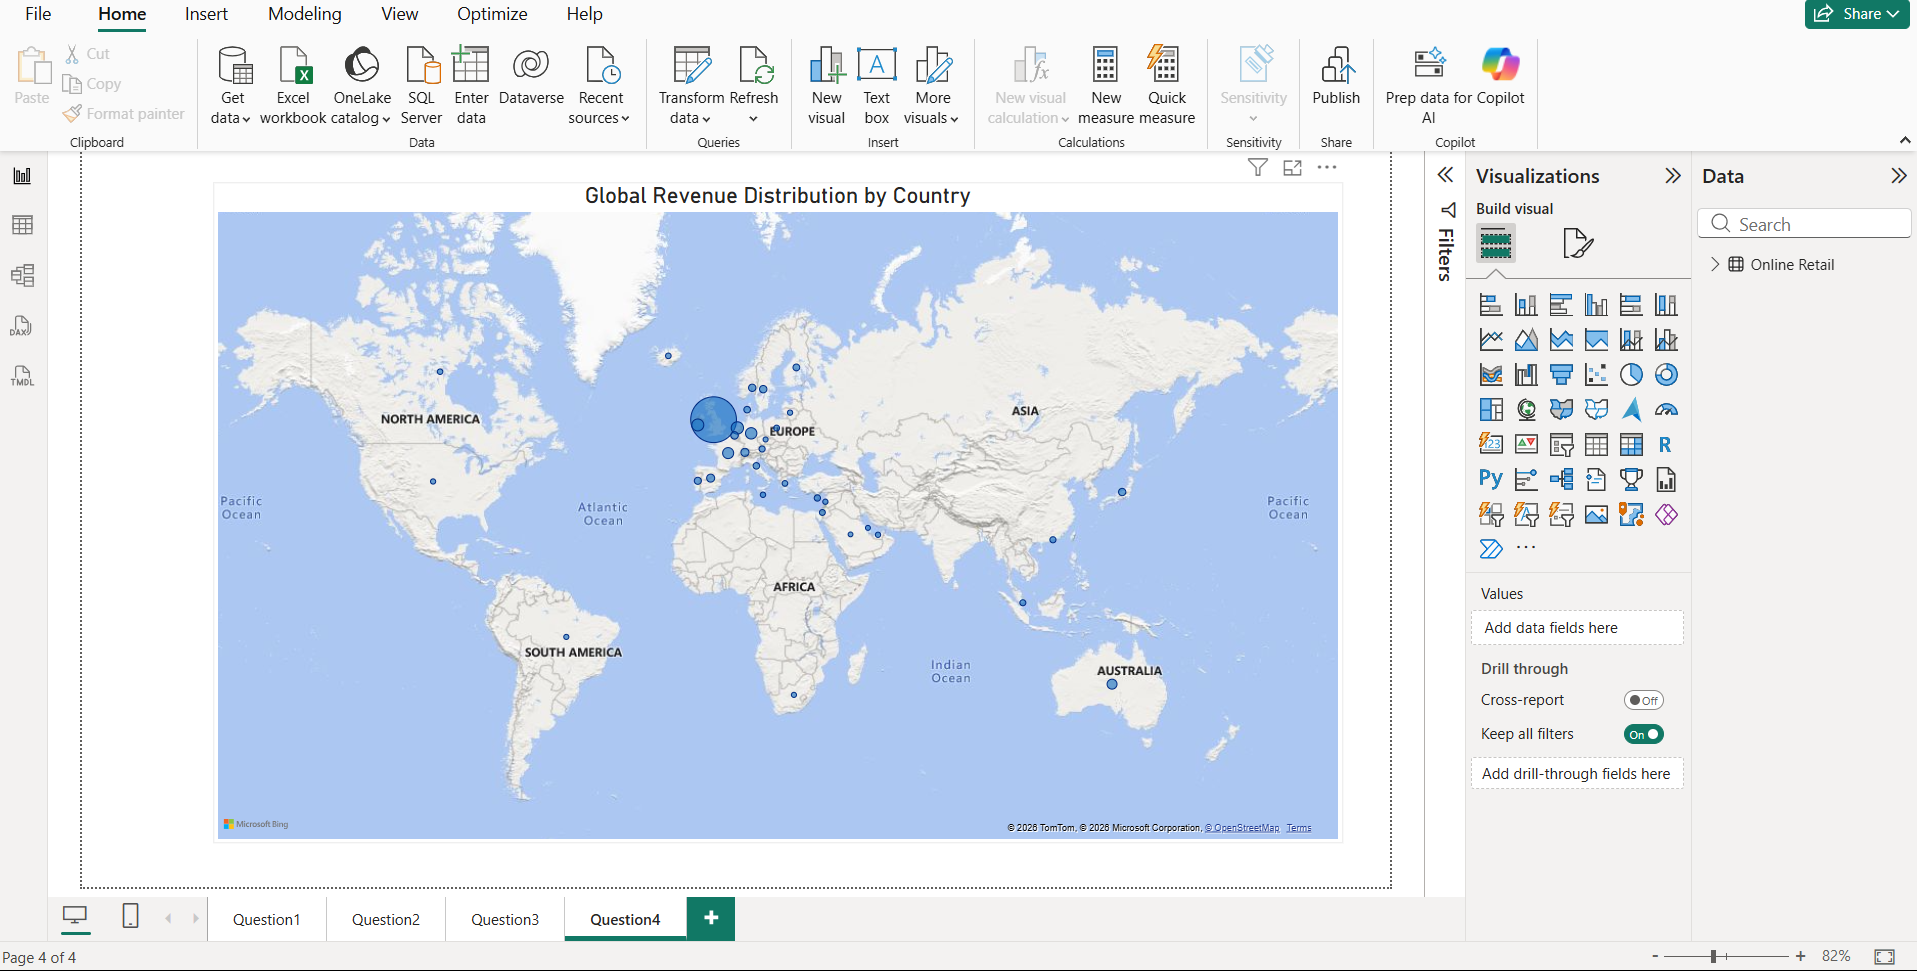

What the dashboard file says about the page in this screenshot:
{"tool":"powerbi","page":{"name":"Question4","canvas":[1280,720],"ordinal":3},"visuals":[{"type":"map","title":"Global Revenue Distribution by Country","fields":{"Category":["Online Retail.Country"],"Size":["Sum(Online Retail.Revenue)"]},"box":[129,30.2,1104.6,647.7],"z":0}]}

Visuals, with their boxes on the page's 1280x720 design canvas (x1, y1, x2, y2). These are canvas units, not pixel positions in the 1917x971 screenshot, which may show the page scaled, cropped or inside an application window:
"Global Revenue Distribution by Country" map: <bbox>129, 30, 1234, 678</bbox>
